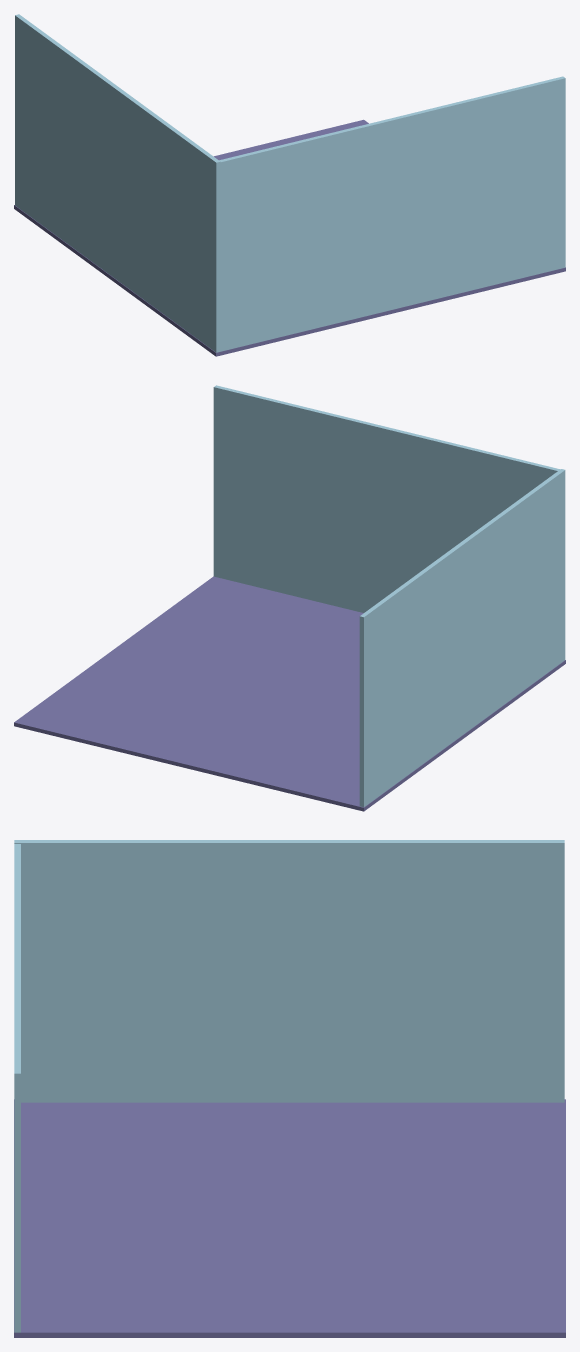
The model's file is ceo_of_sex.fbx.
The picture shows the model from 3 angles, top to bottom: view 1: azimuth 30°, elevation 25°; view 2: azimuth 150°, elevation 25°; view 3: azimuth 270°, elevation 25°; orthographic projection. The views are drawn at different scales.
Parts seen in each view (by area): view 1: pasted__pCube2; view 2: pasted__pCube2; view 3: pasted__pCube2.
Part boxes in pixels (x1,y1,x2,y2): pasted__pCube2: (14, 14, 565, 356); pasted__pCube2: (14, 385, 565, 811); pasted__pCube2: (14, 840, 565, 1337).
Size of the model in its own units: 56.03 by 29.66 by 56.03.
